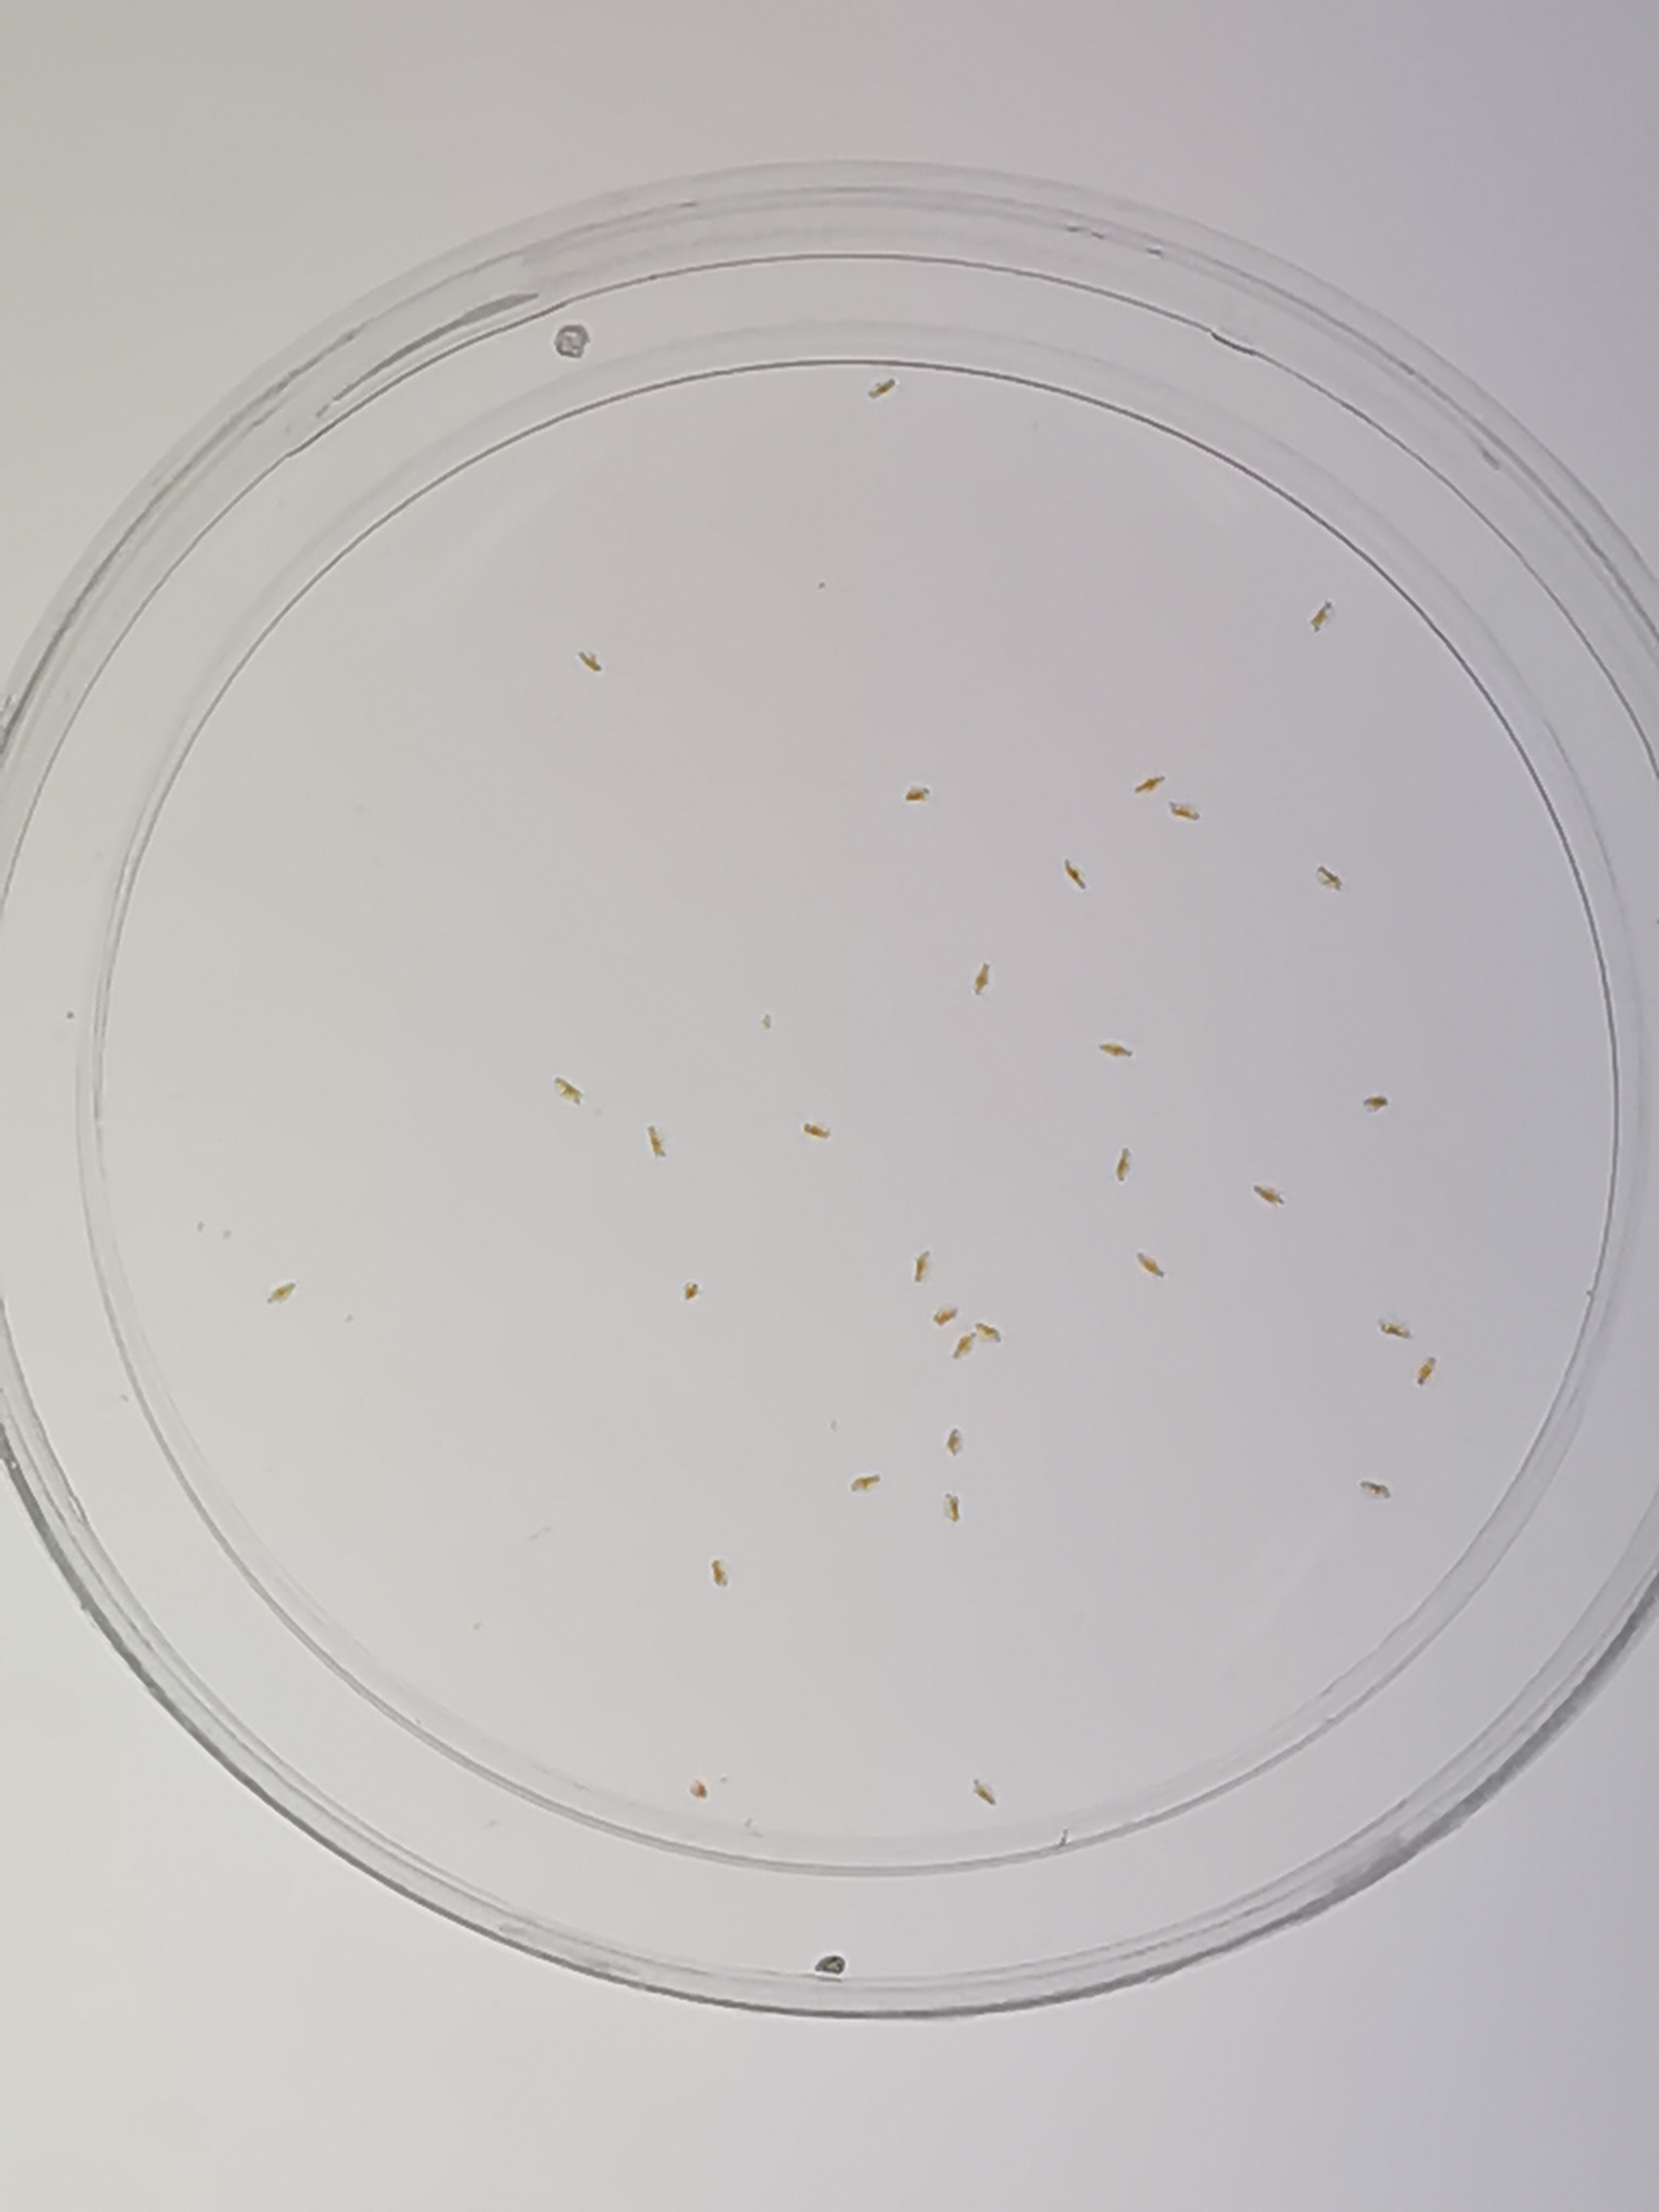D.magna: (1375, 1312, 1415, 1343), (1412, 1355, 1445, 1390), (1061, 855, 1091, 892), (1253, 1183, 1293, 1209), (1314, 860, 1345, 894), (552, 1073, 584, 1106), (645, 1118, 669, 1160), (1358, 1087, 1391, 1116), (1136, 1247, 1166, 1278), (1168, 796, 1202, 822), (1310, 599, 1337, 634), (267, 1280, 298, 1308), (1098, 1036, 1134, 1059), (1358, 1477, 1391, 1501), (849, 1470, 884, 1493), (866, 374, 897, 399), (1133, 773, 1166, 796), (800, 1118, 833, 1141), (911, 1249, 932, 1284), (972, 1777, 997, 1806), (577, 650, 606, 674), (941, 1491, 964, 1522), (972, 961, 993, 995), (974, 1320, 1002, 1345), (1115, 1146, 1133, 1183), (932, 1305, 958, 1329), (951, 1332, 972, 1359), (713, 1559, 730, 1588), (681, 1278, 701, 1303), (903, 786, 929, 803), (946, 1426, 962, 1454)
